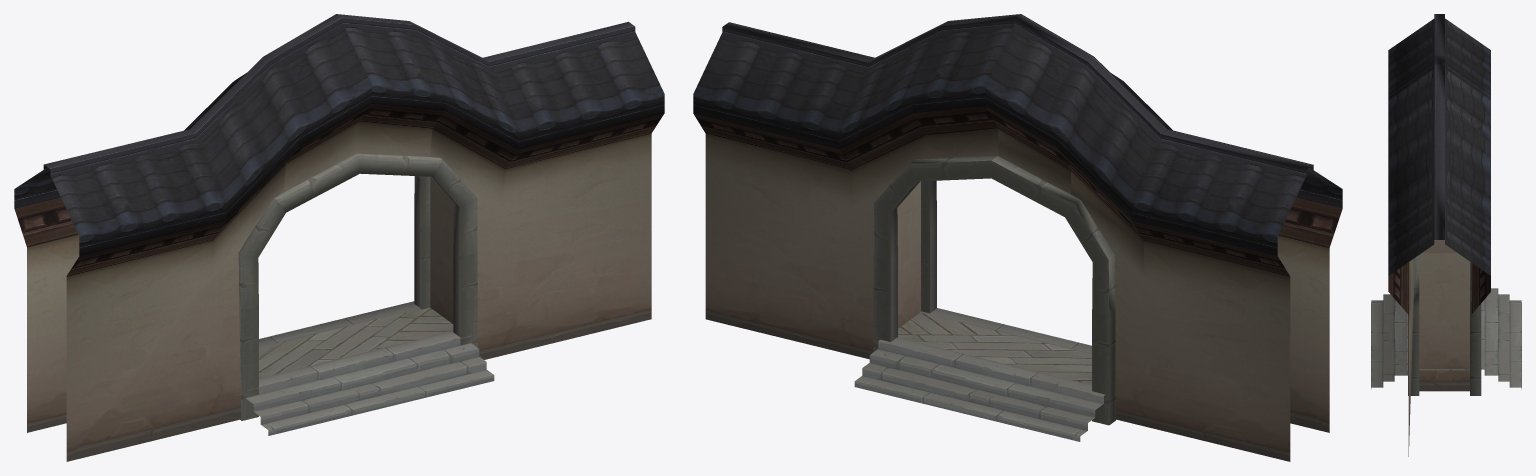
File: bujian_01.fbx
3 renders of one model, left to right at view 1: azimuth 30°, elevation 25°; view 2: azimuth 150°, elevation 25°; view 3: azimuth 270°, elevation 25°, orthographic. The views are drawn at different scales.
Parts seen in each view (by area): view 1: pasted__polySurface4108; view 2: pasted__polySurface4108; view 3: pasted__polySurface4108.
Boxes of the visible parts, x1=… form: pasted__polySurface4108: x1=14, y1=14, x2=664, y2=461; pasted__polySurface4108: x1=693, y1=14, x2=1342, y2=461; pasted__polySurface4108: x1=1371, y1=14, x2=1521, y2=456.
Size of the model in its own units: 10.15 by 6 by 2.86.
1 material, 1 textured.
